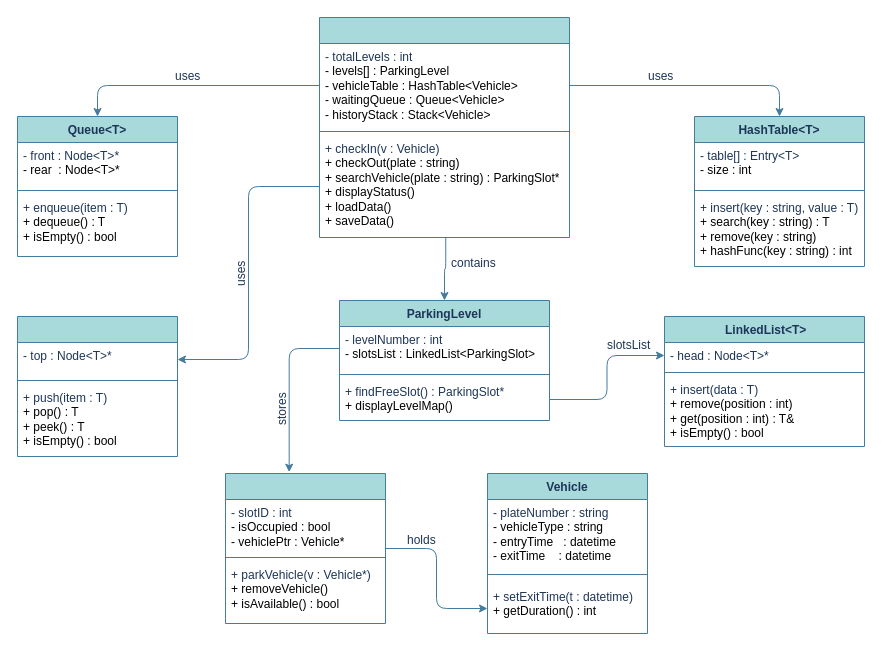
This 882x654 diagram has some shape labels left out. The box of each missing label's shape, as (x1, y1, x2, y2) in pixels:
ParkingLot: (318, 16, 570, 238)
ParkingSlot: (224, 472, 386, 624)
Stack<T>: (16, 316, 178, 456)
